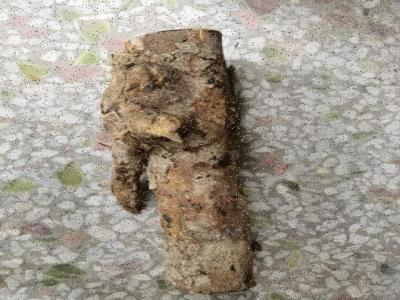Root: (101, 28, 258, 292)
